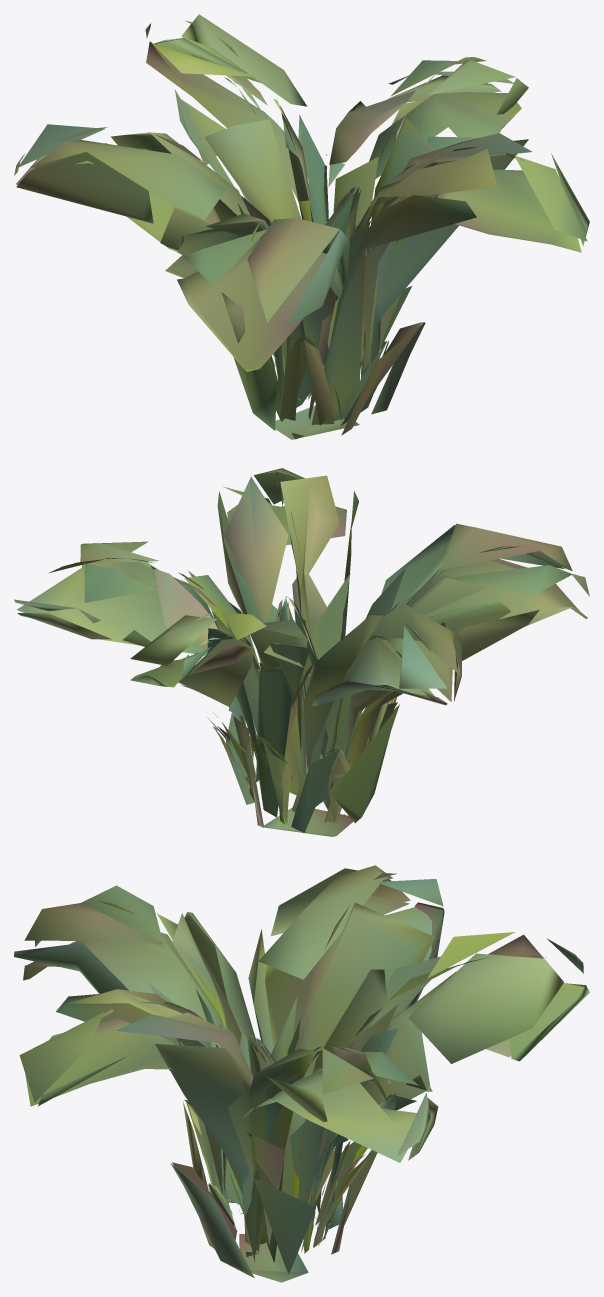
File: Leaf_game.glb
3 renders of one model, top to bottom at view 1: azimuth 30°, elevation 25°; view 2: azimuth 150°, elevation 25°; view 3: azimuth 270°, elevation 25°, orthographic. The views are drawn at different scales.
Visible parts, largest first — view 1: Leaf; view 2: Leaf; view 3: Leaf.
Part boxes in pixels (box(x1,y1,x2,y2)): Leaf: box(14, 14, 589, 439); Leaf: box(14, 468, 589, 836); Leaf: box(14, 865, 589, 1282).
Bounding box in the file's own units: 0.9298 × 0.5669 × 0.9303.
